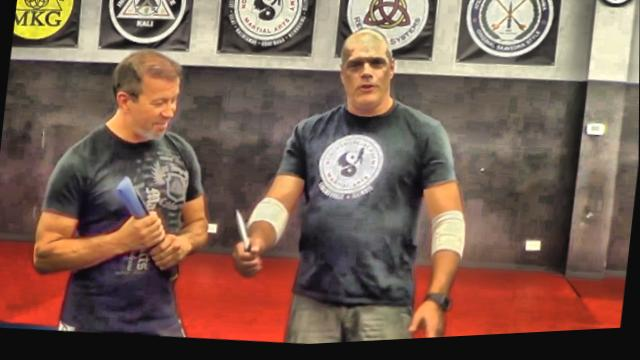knife: (225, 206, 272, 284)
